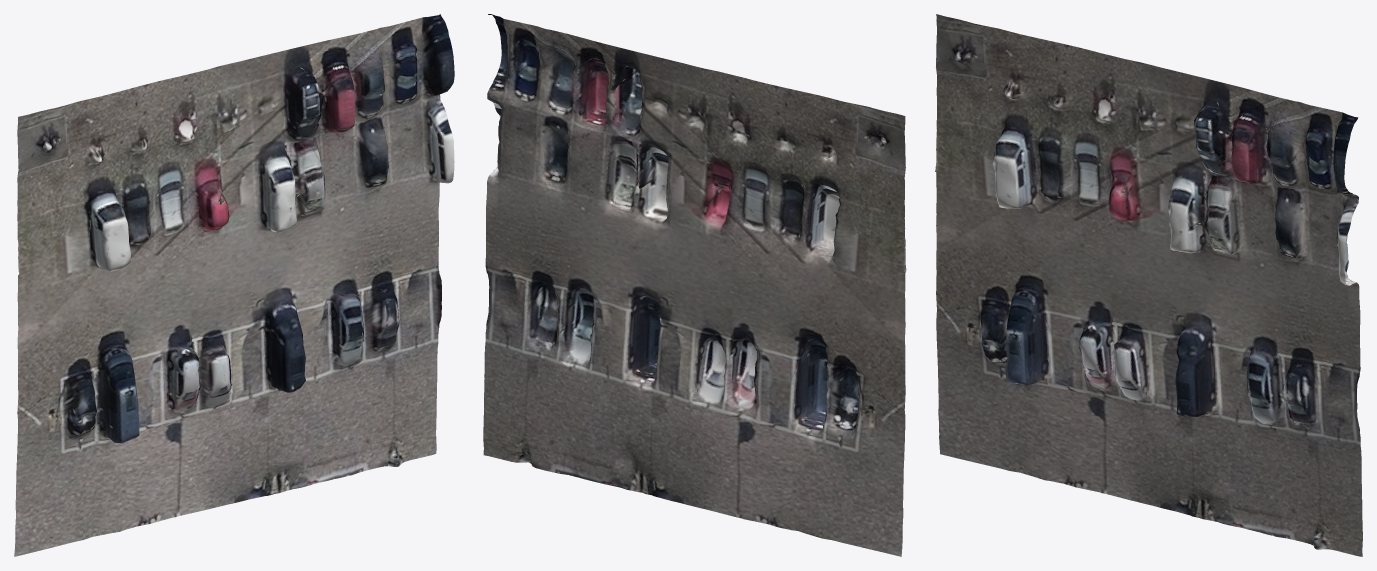
File: Tile_+029_+018_L21_0033100.fbx
3 views of the same model, side by side, from view 1: azimuth 30°, elevation 25°; view 2: azimuth 150°, elevation 25°; view 3: azimuth 330°, elevation 25° (orthographic).
Visible parts, largest first — view 1: DefaultName; view 2: DefaultName; view 3: DefaultName.
Boxes of the visible parts, x1,y1,x2,y2 form: DefaultName: [14, 14, 454, 556]; DefaultName: [483, 14, 906, 556]; DefaultName: [935, 14, 1362, 556].
Bounding box in the file's own units: 31.31 × 31.38 × 2.89.
1 material, 1 textured.
